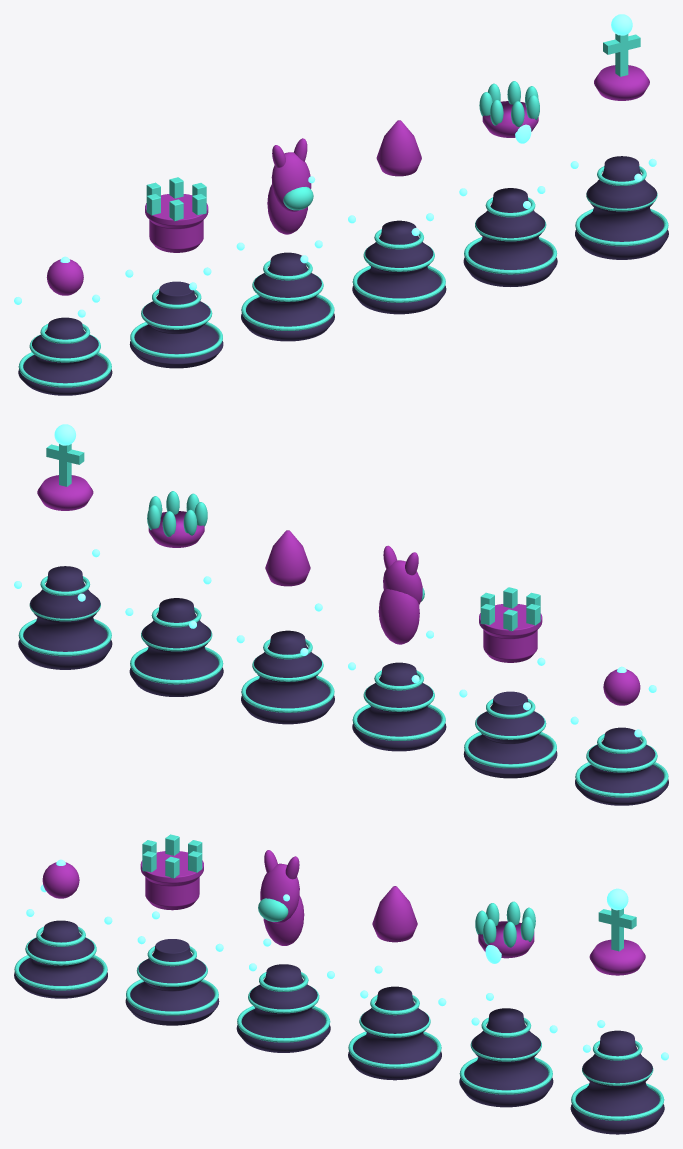
The model's file is 10_Cyberpunk_Sintetico_6_Piezas.glb.
The picture shows the model from 3 angles, top to bottom: view 1: azimuth 30°, elevation 25°; view 2: azimuth 150°, elevation 25°; view 3: azimuth 330°, elevation 25°; orthographic projection.
Visible parts, largest first — view 1: 10_Cyberpunk_Sintetico_Torre, 10_Cyberpunk_Sintetico_Rey, 10_Cyberpunk_Sintetico_Caballo, 10_Cyberpunk_Sintetico_Reina, 10_Cyberpunk_Sintetico_Alfil, 10_Cyberpunk_Sintetico_Peon; view 2: 10_Cyberpunk_Sintetico_Torre, 10_Cyberpunk_Sintetico_Rey, 10_Cyberpunk_Sintetico_Caballo, 10_Cyberpunk_Sintetico_Reina, 10_Cyberpunk_Sintetico_Alfil, 10_Cyberpunk_Sintetico_Peon; view 3: 10_Cyberpunk_Sintetico_Rey, 10_Cyberpunk_Sintetico_Torre, 10_Cyberpunk_Sintetico_Reina, 10_Cyberpunk_Sintetico_Caballo, 10_Cyberpunk_Sintetico_Alfil, 10_Cyberpunk_Sintetico_Peon.
Part boxes in pixels (x1=…): 10_Cyberpunk_Sintetico_Torre: x1=125, y1=177, x2=223, y2=368; 10_Cyberpunk_Sintetico_Rey: x1=570, y1=14, x2=668, y2=259; 10_Cyberpunk_Sintetico_Caballo: x1=236, y1=138, x2=334, y2=341; 10_Cyberpunk_Sintetico_Reina: x1=459, y1=81, x2=557, y2=286; 10_Cyberpunk_Sintetico_Alfil: x1=348, y1=120, x2=446, y2=314; 10_Cyberpunk_Sintetico_Peon: x1=14, y1=256, x2=112, y2=395; 10_Cyberpunk_Sintetico_Torre: x1=459, y1=587, x2=557, y2=778; 10_Cyberpunk_Sintetico_Rey: x1=14, y1=424, x2=112, y2=669; 10_Cyberpunk_Sintetico_Caballo: x1=348, y1=545, x2=446, y2=751; 10_Cyberpunk_Sintetico_Reina: x1=125, y1=491, x2=223, y2=696; 10_Cyberpunk_Sintetico_Alfil: x1=236, y1=530, x2=334, y2=724; 10_Cyberpunk_Sintetico_Peon: x1=570, y1=666, x2=668, y2=805; 10_Cyberpunk_Sintetico_Rey: x1=570, y1=888, x2=668, y2=1134; 10_Cyberpunk_Sintetico_Torre: x1=125, y1=834, x2=223, y2=1025; 10_Cyberpunk_Sintetico_Reina: x1=459, y1=901, x2=557, y2=1107; 10_Cyberpunk_Sintetico_Caballo: x1=236, y1=850, x2=334, y2=1052; 10_Cyberpunk_Sintetico_Alfil: x1=348, y1=886, x2=446, y2=1080; 10_Cyberpunk_Sintetico_Peon: x1=14, y1=859, x2=112, y2=998.
Bounding box in the file's own units: 8.16 × 2.77 × 1.09.
